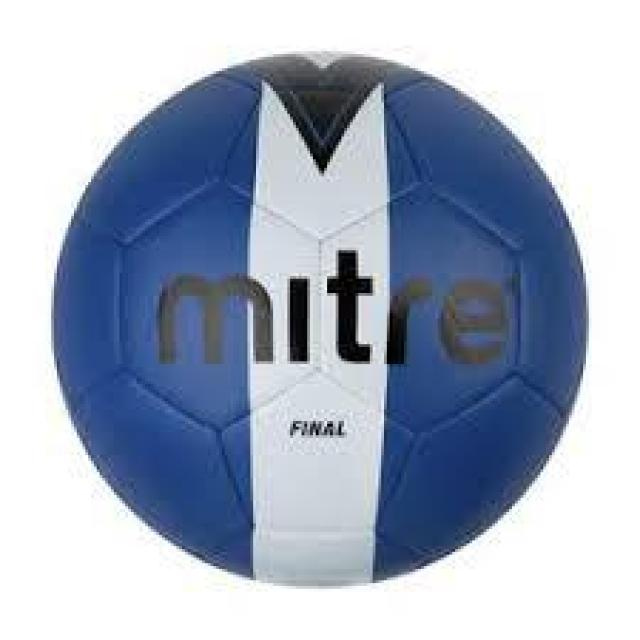ball: (43, 51, 600, 596)
